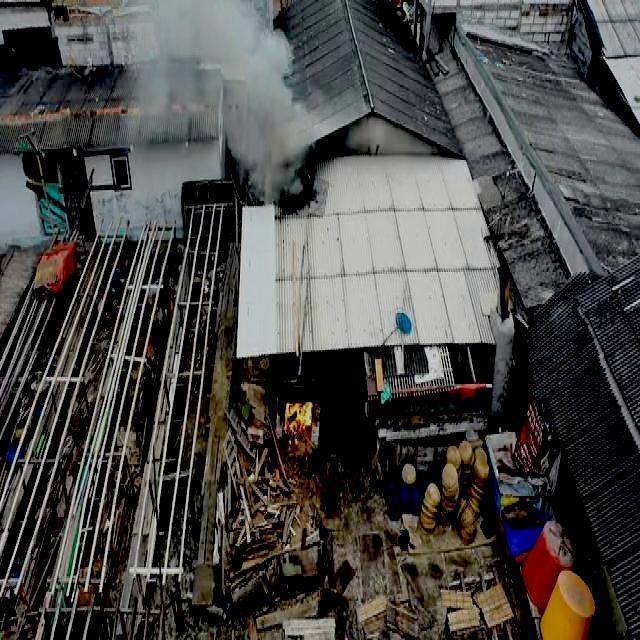smoke: (208, 0, 311, 198), (134, 4, 227, 98)
